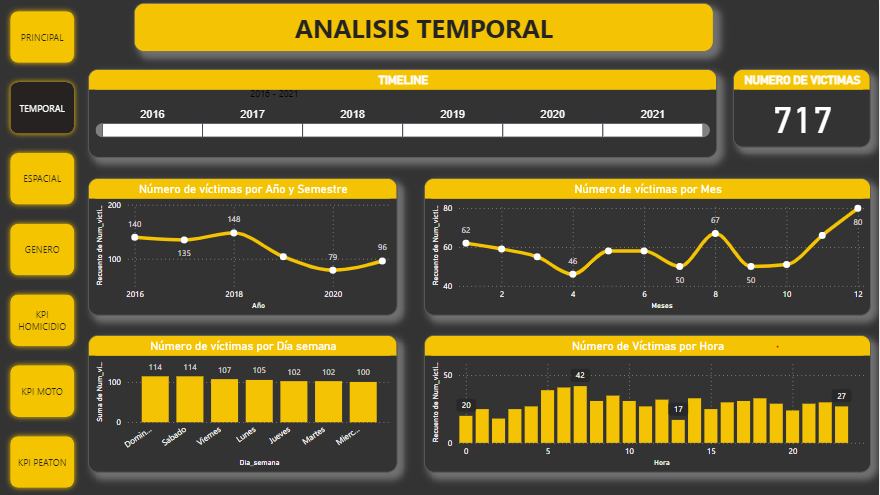

The dashboard page shown, as its layout file describes it:
{"tool":"powerbi","page":{"name":"Página 1","canvas":[1280,720],"ordinal":1},"visuals":[{"type":"Timeline1447991079100","title":"TIMELINE","fields":{"Time":["Calendario.Date"]},"box":[80.6,0,969.4,153.2],"z":0},{"type":"lineChart","title":"Número de víctimas por Año y Semestre","fields":{"Category":["siniestos_limpio.Año"],"Y":["CountNonNull(siniestos_limpio.Num víctimas)"],"Series":["Calendario.Semestre"]},"box":[80.6,162.9,471,217.7],"z":1000},{"type":"lineChart","title":"Número de víctimas por Mes","fields":{"Y":["CountNonNull(siniestos_limpio.Num víctimas)"],"Category":["siniestos_limpio.Mes"]},"box":[564.5,162.9,672.6,217.7],"z":2000},{"type":"columnChart","title":"Número de  víctimas por Día semana","fields":{"Category":["siniestos_limpio.Día semana"],"Y":["Sum(siniestos_limpio.Num víctimas)"]},"box":[80.6,393.5,471,245.2],"z":3000},{"type":"lineStackedColumnComboChart","title":"Número de Víctimas y Promedio de Edad por Hora","fields":{"Category":["siniestos_limpio.Hora"],"Y":["Sum(siniestos_limpio.Num víctimas)"],"Y2":["Avg(siniestos_limpio.Edad)"]},"box":[564.5,393.5,680.6,245.2],"z":4000},{"type":"actionButton","box":[0,0,100,40],"z":6000},{"type":"card","title":"NUMERO DE VICTIMAS","fields":{"Values":["CountNonNull(Sheet1.Num_victimas)"]},"box":[1068.3,20.2,199.9,114.2],"z":6001}]}

Visuals, with their boxes in screenshot pixels (x1, y1, x2, y2), scaled from the page's 1280x720 canvas onto the 880x495 screenshot:
"TIMELINE" Timeline1447991079100: {"x1": 55, "y1": 0, "x2": 722, "y2": 105}
"Número de víctimas por Año y Semestre" lineChart: {"x1": 55, "y1": 112, "x2": 379, "y2": 262}
"Número de víctimas por Mes" lineChart: {"x1": 388, "y1": 112, "x2": 851, "y2": 262}
"Número de  víctimas por Día semana" columnChart: {"x1": 55, "y1": 271, "x2": 379, "y2": 439}
"Número de Víctimas y Promedio de Edad por Hora" lineStackedColumnComboChart: {"x1": 388, "y1": 271, "x2": 856, "y2": 439}
actionButton: {"x1": 0, "y1": 0, "x2": 69, "y2": 28}
"NUMERO DE VICTIMAS" card: {"x1": 734, "y1": 14, "x2": 872, "y2": 92}
